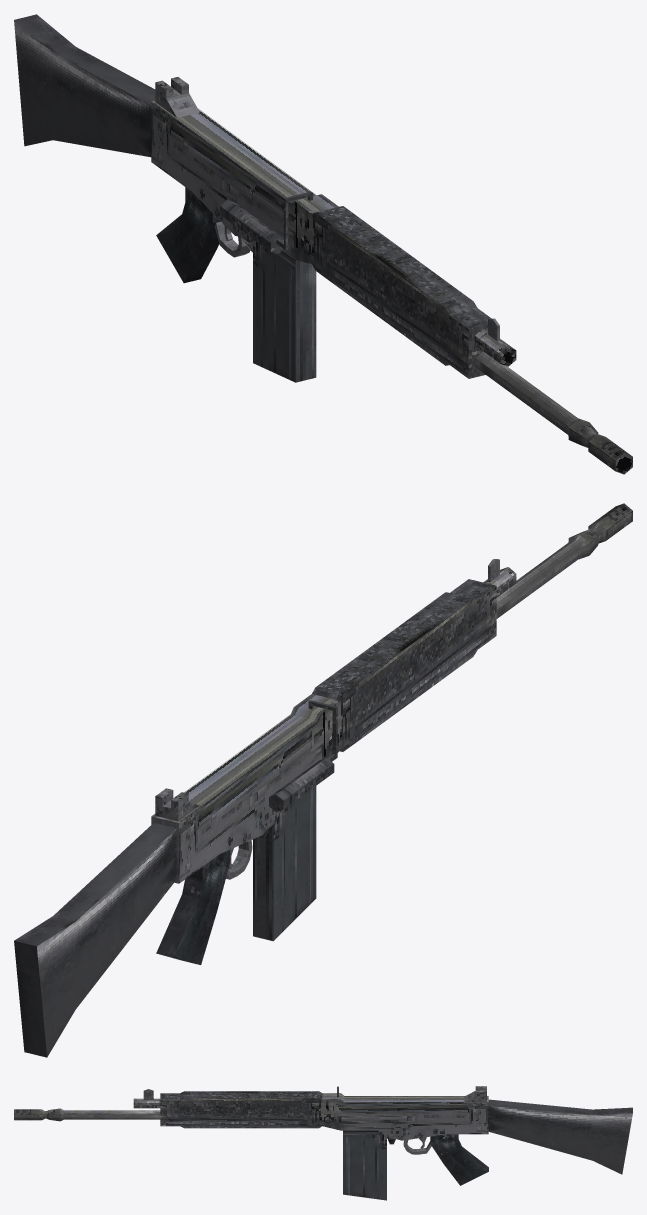
File: PSX_FN_FAL.glb
3 renders of one model, top to bottom at view 1: azimuth 30°, elevation 25°; view 2: azimuth 150°, elevation 25°; view 3: azimuth 270°, elevation 25°, orthographic. The views are drawn at different scales.
Parts seen in each view (by area): view 1: SM_FN_FAL; view 2: SM_FN_FAL; view 3: SM_FN_FAL.
Part boxes in pixels (box(x1,y1,x2,y2)): SM_FN_FAL: box(14, 14, 632, 474); SM_FN_FAL: box(14, 503, 632, 1057); SM_FN_FAL: box(14, 1086, 632, 1200).
Size of the model in its own units: 0.0572 by 0.2517 by 1.3.
1 material, 1 textured.
